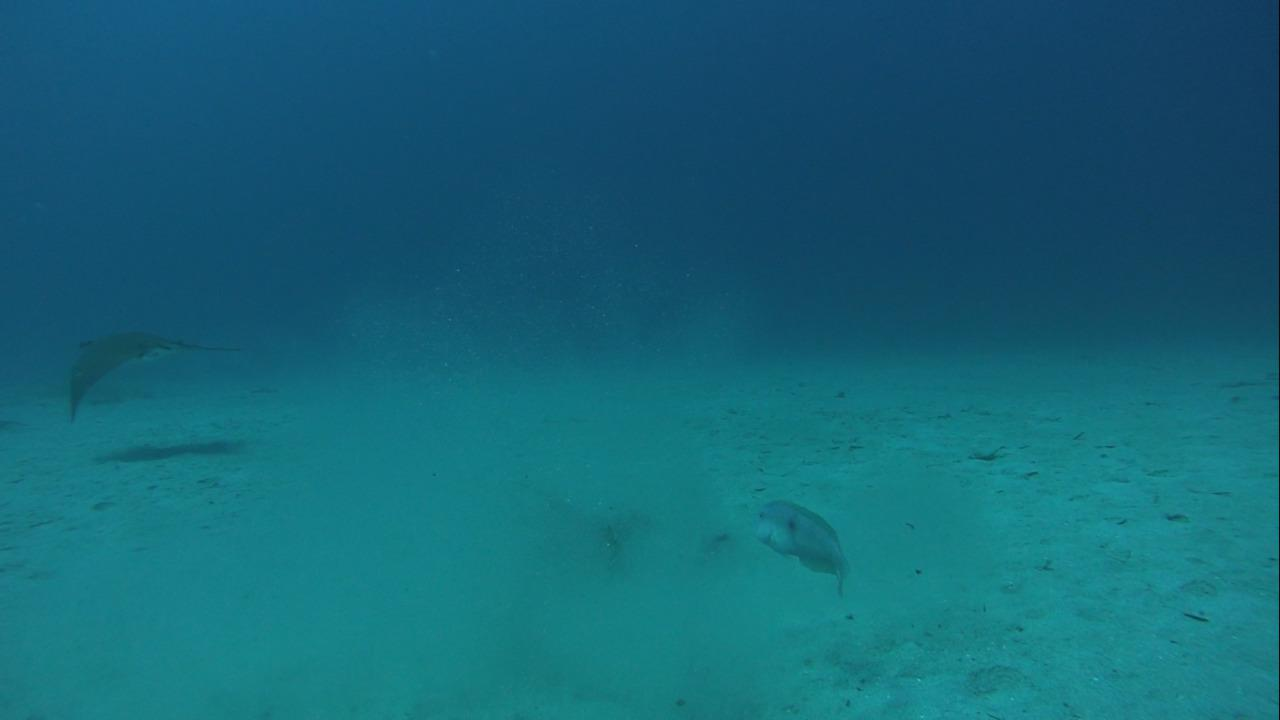myliobatis: (55, 323, 255, 423)
raor: (740, 495, 853, 604)
